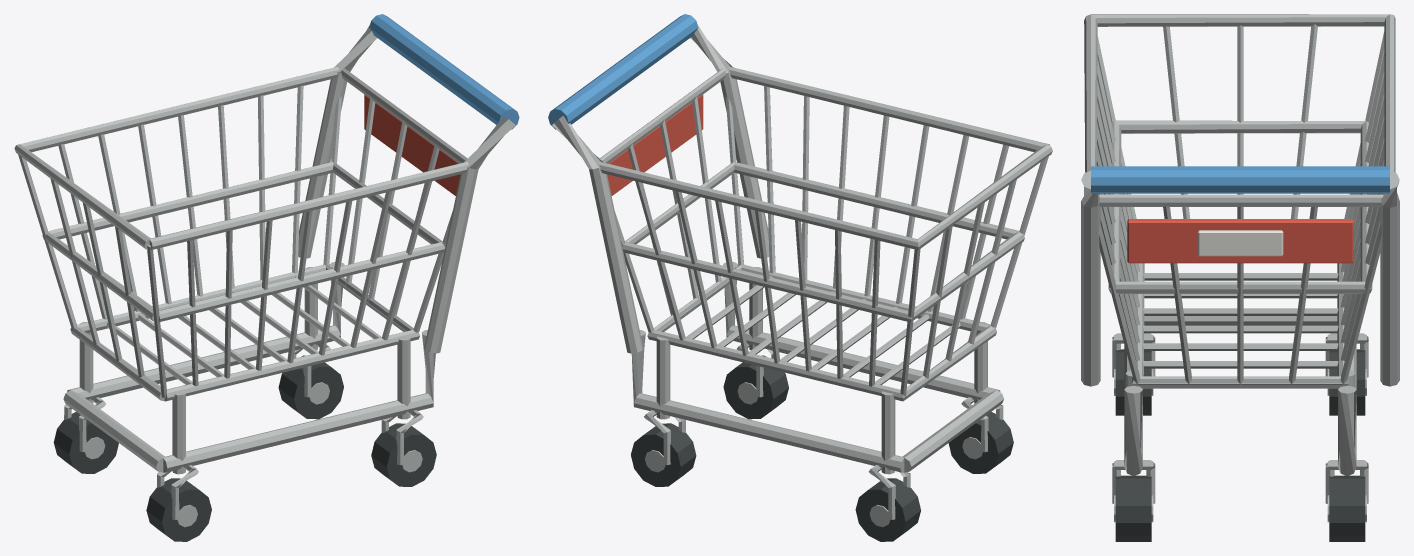
File: Shopping_Cart.fbx
3 renders of one model, left to right at view 1: azimuth 30°, elevation 25°; view 2: azimuth 150°, elevation 25°; view 3: azimuth 270°, elevation 25°, orthographic. The views are drawn at different scales.
Parts seen in each view (by area): view 1: Shopping_Cart__LPCXFER; view 2: Shopping_Cart__LPCXFER; view 3: Shopping_Cart__LPCXFER.
Boxes of the visible parts, box(x1,y1,x2,y2) form: Shopping_Cart__LPCXFER: box(14, 14, 519, 541); Shopping_Cart__LPCXFER: box(548, 14, 1052, 541); Shopping_Cart__LPCXFER: box(1081, 14, 1399, 541).
Size of the model in its own units: 117 by 108 by 74.6.
